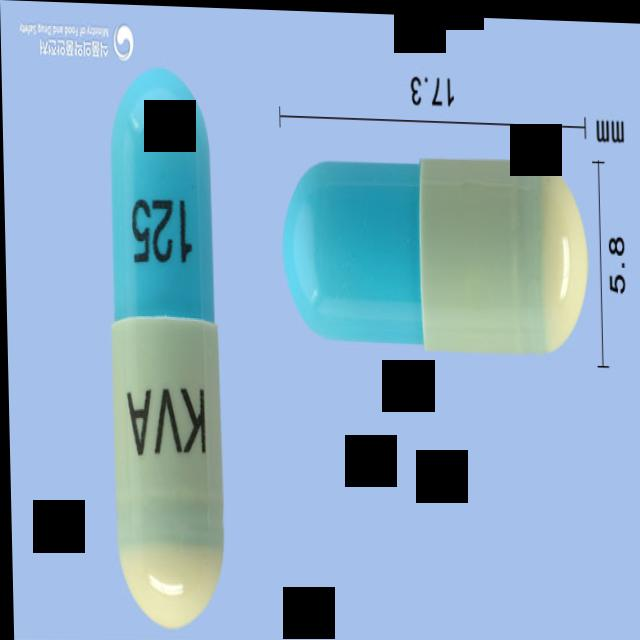Vancozin Cap: (103, 66, 224, 633), (279, 151, 587, 358)
